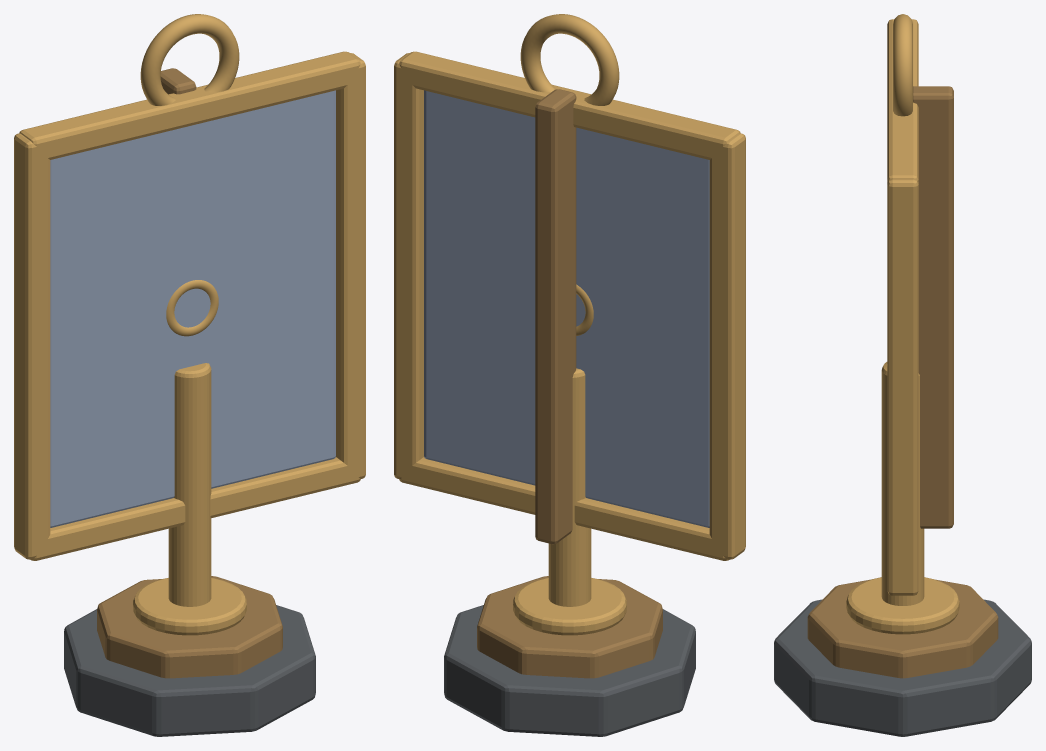
File: mirror.glb
The picture shows the model from 3 angles, left to right: view 1: azimuth 30°, elevation 25°; view 2: azimuth 150°, elevation 25°; view 3: azimuth 270°, elevation 25°; orthographic projection.
Parts seen in each view (by area): view 1: Mirror; view 2: Mirror; view 3: Mirror.
Boxes of the visible parts, x1,y1,x2,y2 form: Mirror: (14, 14, 365, 736); Mirror: (394, 14, 745, 736); Mirror: (774, 14, 1031, 736).
Bounding box in the file's own units: 1.38 × 2.6 × 0.9119.
